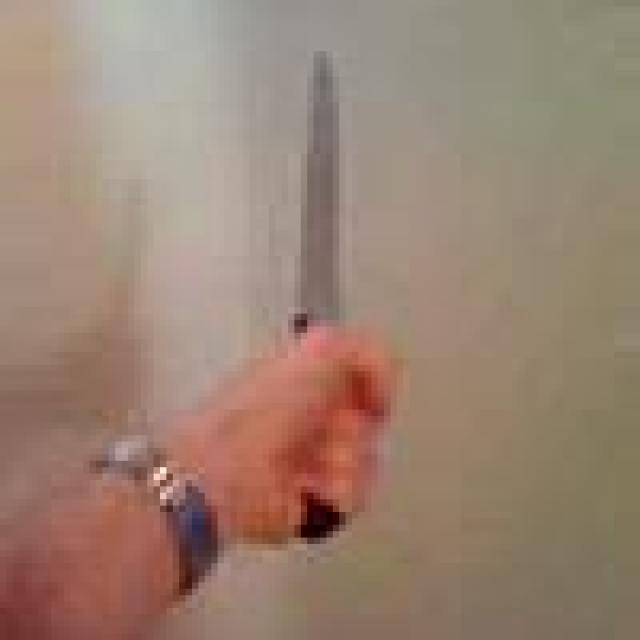weapon: (256, 32, 410, 595)
